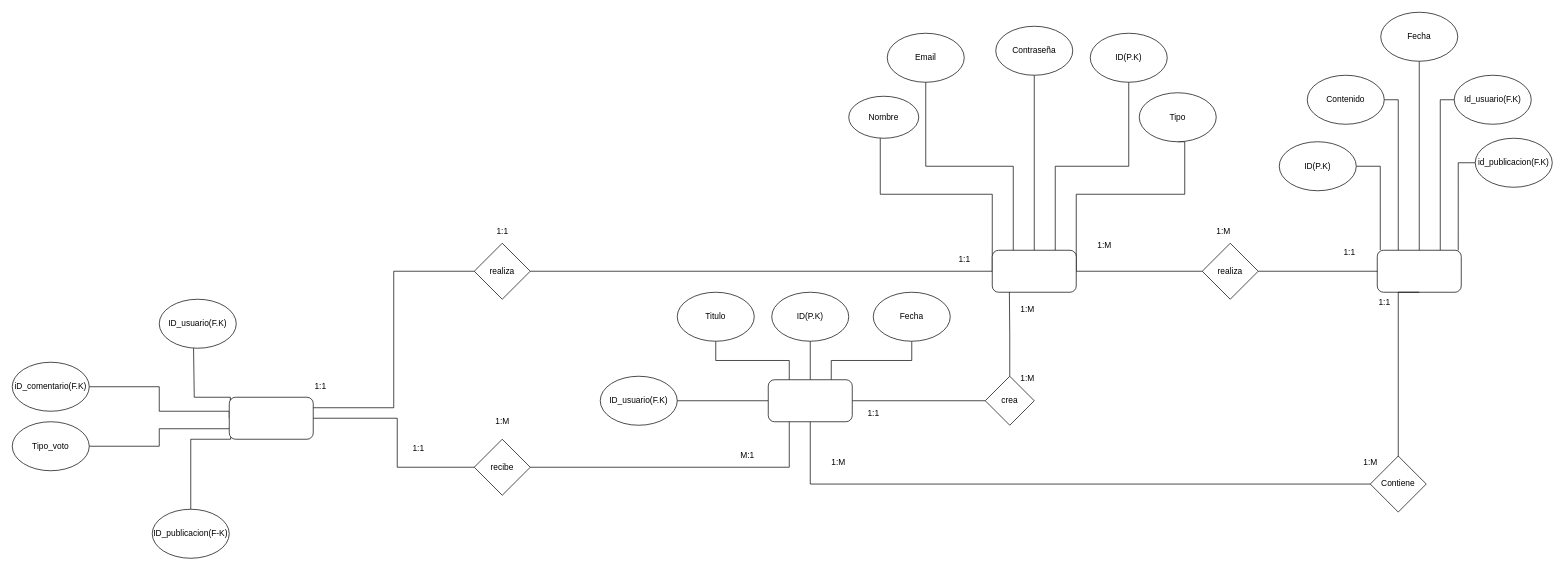
Image size: 1565x571. Some labels were removed from this diagram. Each missing label, with the centre of its shape:
Comentario: (x=1419, y=271)
Publicacion: (x=810, y=400)
Usuario: (x=1034, y=271)
Voto: (x=271, y=418)
